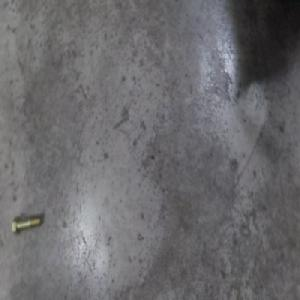Bolt: (15, 212, 44, 236)
